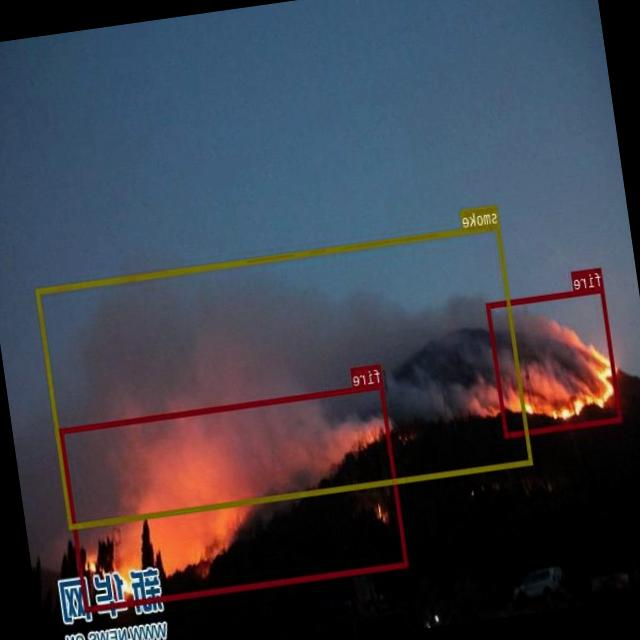fire: (60, 382, 409, 612), (487, 286, 622, 438)
smoke: (36, 223, 534, 529)
